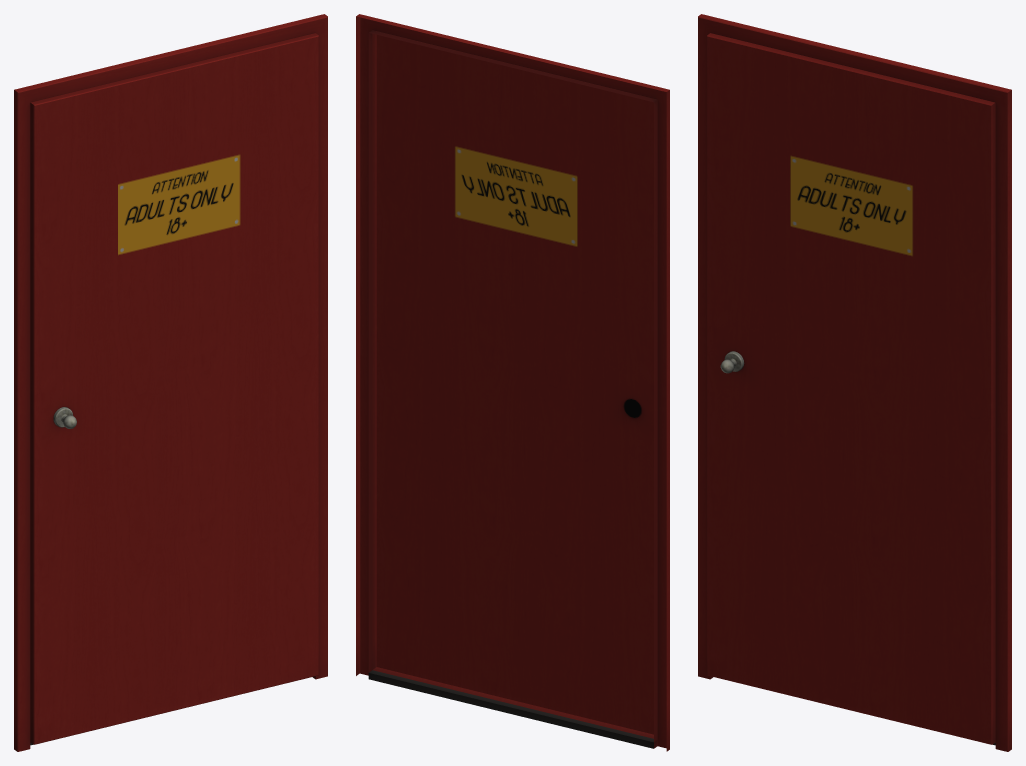
File: video_store_adults_door.obj
The picture shows the model from 3 angles, left to right: view 1: azimuth 30°, elevation 25°; view 2: azimuth 150°, elevation 25°; view 3: azimuth 330°, elevation 25°; orthographic projection.
Parts seen in each view (by area): view 1: Mesh3_Group4_Group1_Model; view 2: Mesh3_Group4_Group1_Model; view 3: Mesh3_Group4_Group1_Model.
Part boxes in pixels (box(x1,y1,x2,y2)): Mesh3_Group4_Group1_Model: box(14, 14, 327, 751); Mesh3_Group4_Group1_Model: box(356, 14, 669, 751); Mesh3_Group4_Group1_Model: box(698, 14, 1011, 751).
Size of the model in its own units: 0.98 by 1.99 by 0.1.
1 material, 1 textured.
